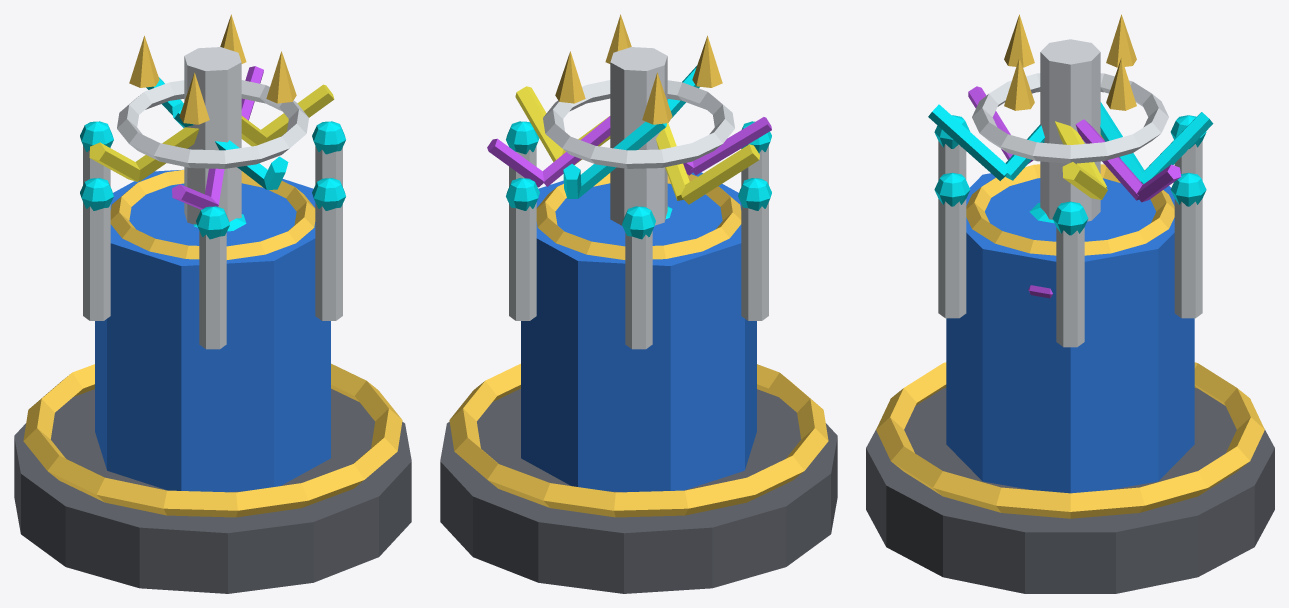
File: TD_LightningTower_T3.fbx
The picture shows the model from 3 angles, left to right: view 1: azimuth 30°, elevation 25°; view 2: azimuth 150°, elevation 25°; view 3: azimuth 270°, elevation 25°; orthographic projection.
Visible parts, largest first — view 1: TD_LightningTower_T3_Body, TD_LightningTower_T3_Base, TD_LightningTower_T3_GoldUpgradeBaseRing, TD_LightningTower_T3_StormCoil, TD_LightningTower_T3_SilverUpgradeRing_Upper, TD_LightningTower_T3_GoldUpgradeRing_Lower, TD_LightningTower_T3_Rod_05, TD_LightningTower_T3_Rod_04, TD_LightningTower_T3_Rod_06, TD_LightningTower_T3_Bolt_01_Segment_04, TD_LightningTower_T3_Bolt_01_Segment_01, TD_LightningTower_T3_Bolt_01_Segment_02 (+14 smaller); view 2: TD_LightningTower_T3_Body, TD_LightningTower_T3_Base, TD_LightningTower_T3_GoldUpgradeBaseRing, TD_LightningTower_T3_StormCoil, TD_LightningTower_T3_SilverUpgradeRing_Upper, TD_LightningTower_T3_GoldUpgradeRing_Lower, TD_LightningTower_T3_Rod_03, TD_LightningTower_T3_Rod_02, TD_LightningTower_T3_Rod_04, TD_LightningTower_T3_Bolt_01_Segment_01, TD_LightningTower_T3_Bolt_03_Segment_01, TD_LightningTower_T3_Bolt_02_Segment_02 (+14 smaller); view 3: TD_LightningTower_T3_Body, TD_LightningTower_T3_Base, TD_LightningTower_T3_GoldUpgradeBaseRing, TD_LightningTower_T3_StormCoil, TD_LightningTower_T3_SilverUpgradeRing_Upper, TD_LightningTower_T3_GoldUpgradeRing_Lower, TD_LightningTower_T3_Rod_01, TD_LightningTower_T3_Rod_02, TD_LightningTower_T3_Rod_06, TD_LightningTower_T3_Bolt_02_Segment_04, TD_LightningTower_T3_Bolt_02_Segment_01, TD_LightningTower_T3_Bolt_03_Segment_03 (+14 smaller).
Boxes of the visible parts, x1,y1,x2,y2 form: TD_LightningTower_T3_Body: (95, 169, 330, 492); TD_LightningTower_T3_Base: (14, 388, 411, 593); TD_LightningTower_T3_GoldUpgradeBaseRing: (23, 363, 402, 517); TD_LightningTower_T3_StormCoil: (184, 47, 241, 224); TD_LightningTower_T3_SilverUpgradeRing_Upper: (117, 80, 308, 168); TD_LightningTower_T3_GoldUpgradeRing_Lower: (110, 169, 315, 259); TD_LightningTower_T3_Rod_05: (199, 231, 226, 349); TD_LightningTower_T3_Rod_04: (83, 202, 110, 320); TD_LightningTower_T3_Rod_06: (315, 202, 342, 320); TD_LightningTower_T3_Bolt_01_Segment_04: (261, 84, 334, 141); TD_LightningTower_T3_Bolt_01_Segment_01: (89, 142, 140, 181); TD_LightningTower_T3_Bolt_01_Segment_02: (136, 127, 199, 181); TD_LightningTower_T3_Body: (521, 172, 756, 492); TD_LightningTower_T3_Base: (440, 388, 837, 593); TD_LightningTower_T3_GoldUpgradeBaseRing: (449, 363, 828, 517); TD_LightningTower_T3_StormCoil: (610, 47, 667, 225); TD_LightningTower_T3_SilverUpgradeRing_Upper: (543, 80, 734, 168); TD_LightningTower_T3_GoldUpgradeRing_Lower: (536, 173, 741, 259); TD_LightningTower_T3_Rod_03: (625, 231, 652, 349); TD_LightningTower_T3_Rod_02: (509, 202, 536, 320); TD_LightningTower_T3_Rod_04: (741, 202, 768, 320); TD_LightningTower_T3_Bolt_01_Segment_01: (681, 144, 759, 204); TD_LightningTower_T3_Bolt_03_Segment_01: (691, 117, 771, 175); TD_LightningTower_T3_Bolt_02_Segment_02: (578, 121, 665, 198); TD_LightningTower_T3_Body: (946, 173, 1194, 493); TD_LightningTower_T3_Base: (866, 388, 1274, 593); TD_LightningTower_T3_GoldUpgradeBaseRing: (876, 362, 1264, 518); TD_LightningTower_T3_StormCoil: (1040, 39, 1100, 221); TD_LightningTower_T3_SilverUpgradeRing_Upper: (972, 73, 1168, 163); TD_LightningTower_T3_GoldUpgradeRing_Lower: (966, 164, 1174, 255); TD_LightningTower_T3_Rod_01: (1056, 227, 1084, 347); TD_LightningTower_T3_Rod_02: (1174, 199, 1202, 318); TD_LightningTower_T3_Rod_06: (938, 199, 966, 318); TD_LightningTower_T3_Bolt_02_Segment_04: (928, 104, 1007, 180); TD_LightningTower_T3_Bolt_02_Segment_01: (1142, 112, 1213, 184); TD_LightningTower_T3_Bolt_03_Segment_03: (1075, 119, 1142, 200).
Size of the model in its own units: 0.9944 by 1.31 by 1.02.
